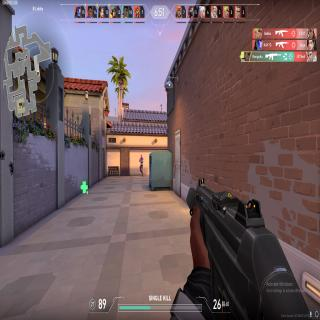ENEMY-BODY: (139, 153, 144, 179)
ENEMY-HEAD: (140, 153, 142, 158)
